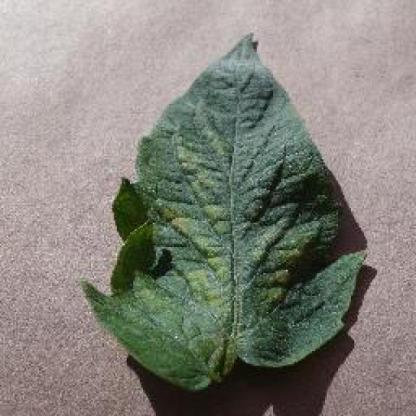Tomato_Spider_Mites: (85, 35, 366, 387)
